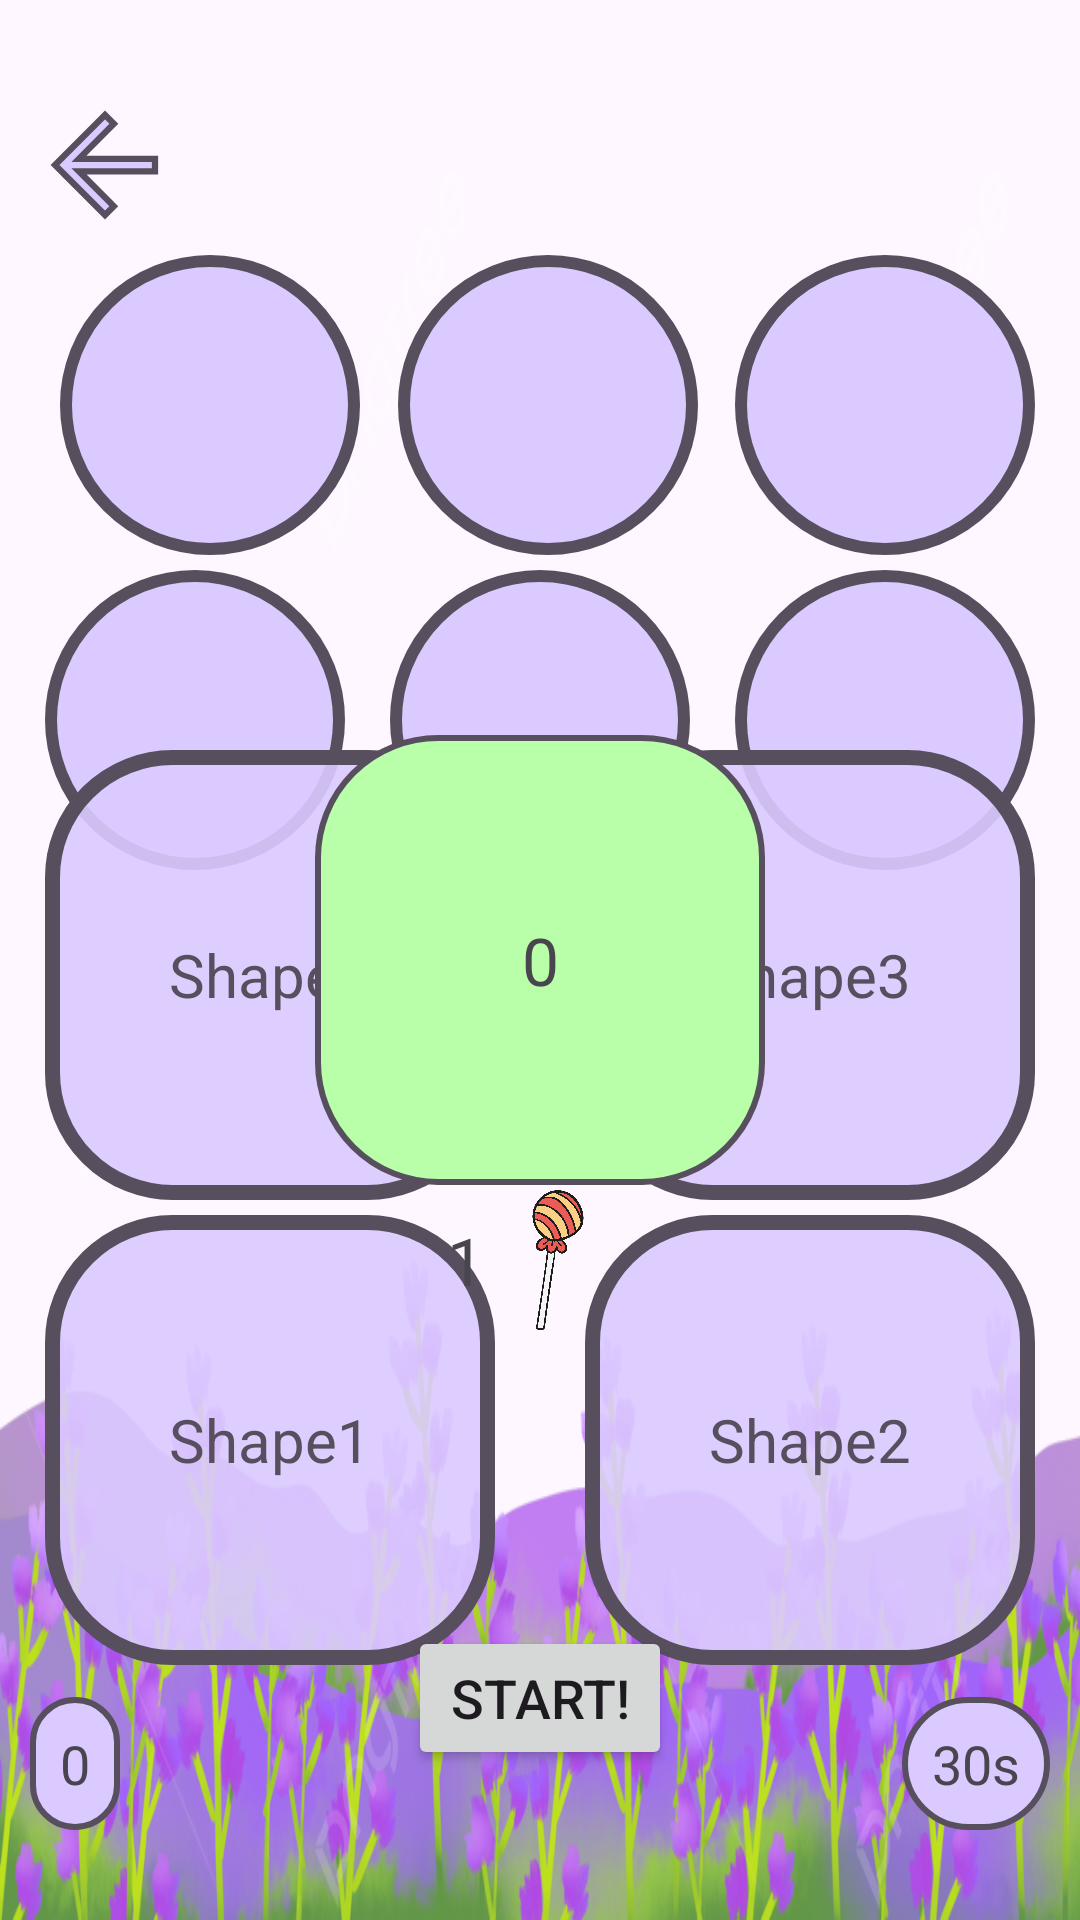

Point at icon controls on the screen. Image size 1080x1920, points as point (x, y).
arrow back: point (104, 165)
lolipop: point (559, 1260)
